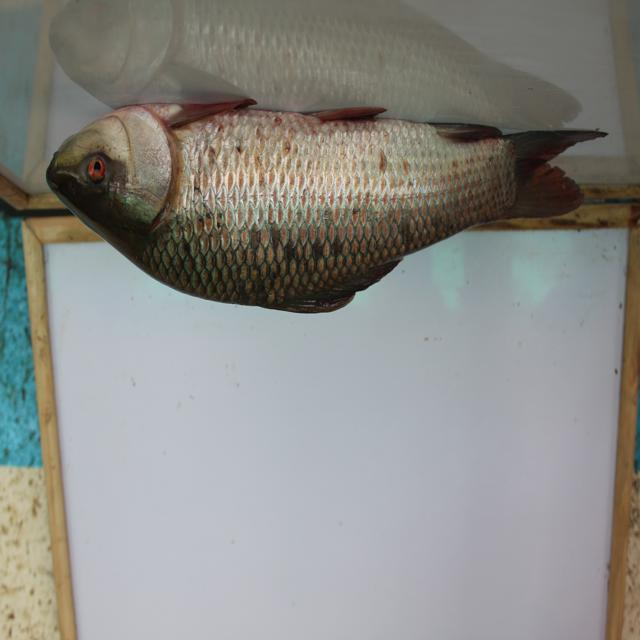Rohu: (45, 85, 609, 307)
